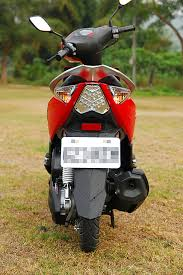motorcycle: (24, 8, 154, 252)
